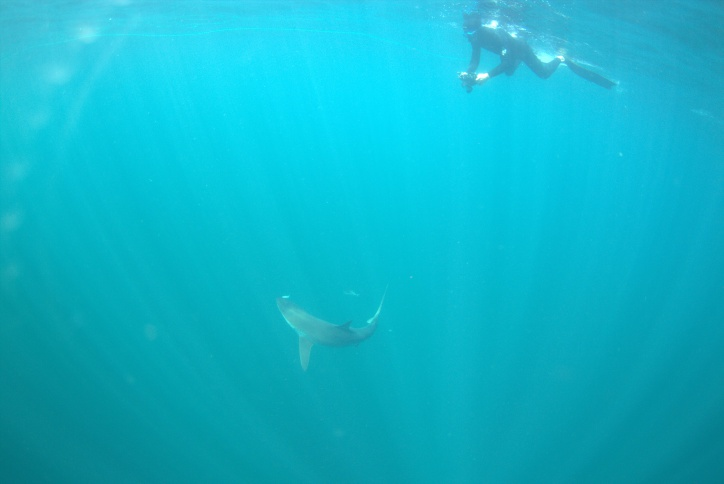Sedoso: (270, 274, 394, 377)
